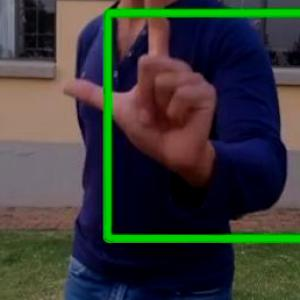land_hand: (59, 0, 220, 180)
